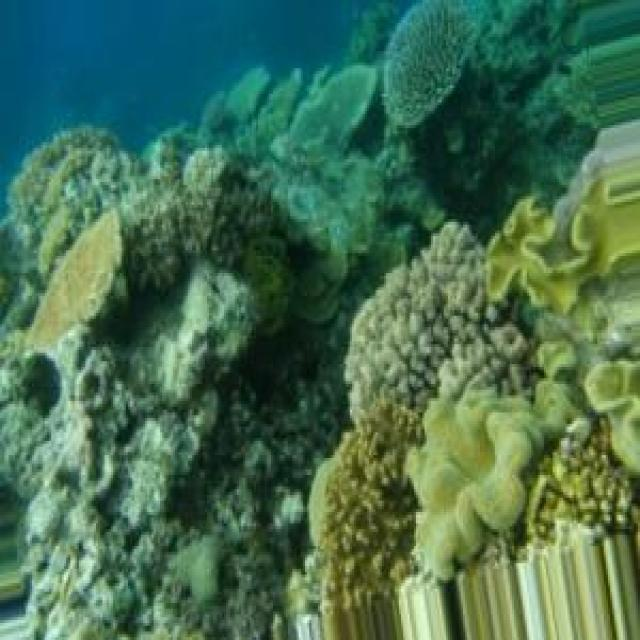healthy coral: (345, 222, 532, 419), (406, 388, 545, 578), (488, 157, 640, 311), (309, 400, 422, 602), (6, 127, 129, 279), (202, 67, 374, 152), (26, 210, 122, 348), (384, 2, 479, 126)
